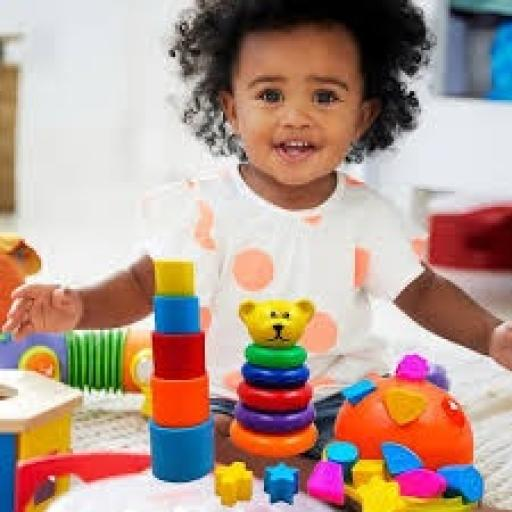baby: (3, 0, 511, 471)
